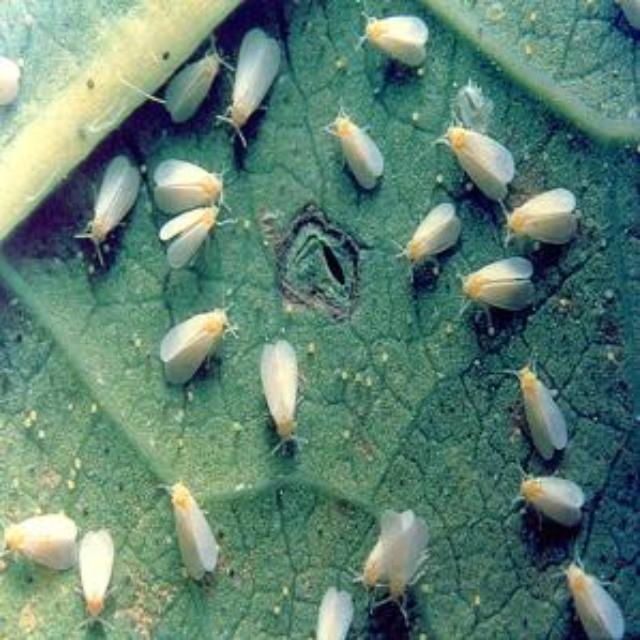Silverleaf whitefly: (129, 476, 271, 594), (350, 489, 450, 613), (137, 295, 236, 401), (494, 345, 580, 463), (5, 479, 86, 601), (64, 147, 150, 257), (245, 332, 317, 458), (316, 106, 402, 206), (499, 465, 608, 541), (224, 18, 286, 148), (546, 558, 638, 640), (445, 254, 555, 322), (443, 117, 521, 210), (498, 182, 596, 254), (154, 38, 222, 134), (352, 2, 436, 78), (69, 518, 123, 630), (150, 204, 236, 274), (147, 157, 256, 211), (398, 196, 467, 268), (300, 580, 364, 640)
